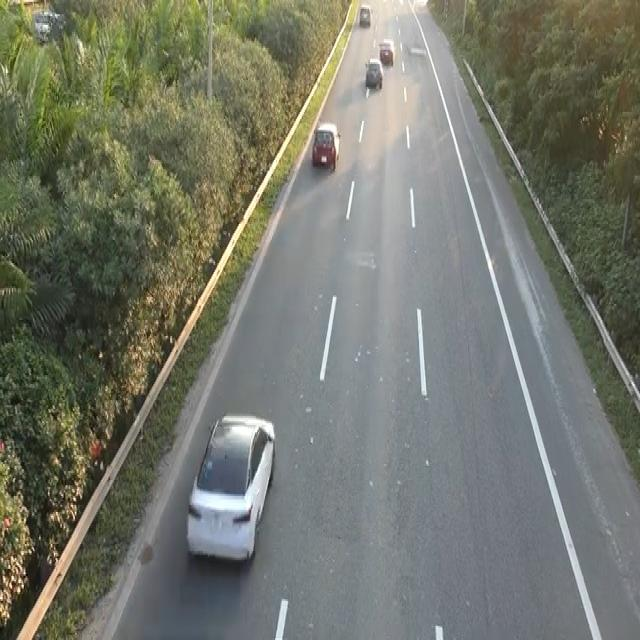bus: (184, 409, 279, 571), (310, 119, 341, 171)
